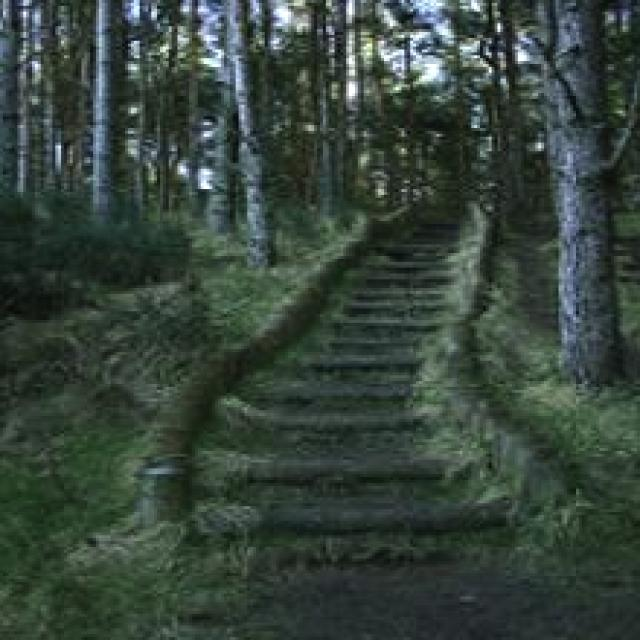upstair: (167, 353, 565, 560)
